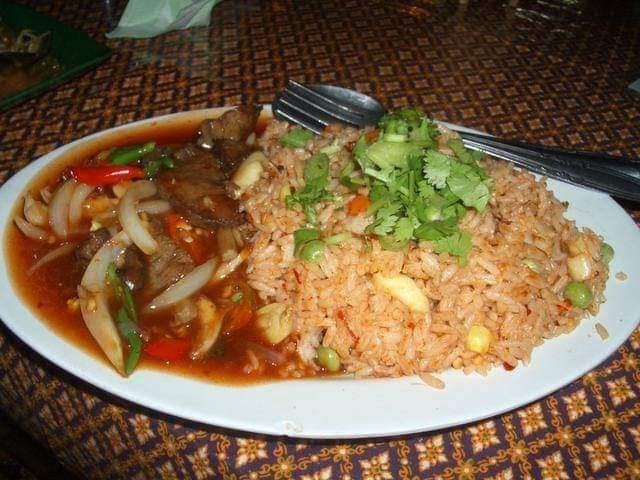Nasi Goreng: (70, 135, 586, 445)
